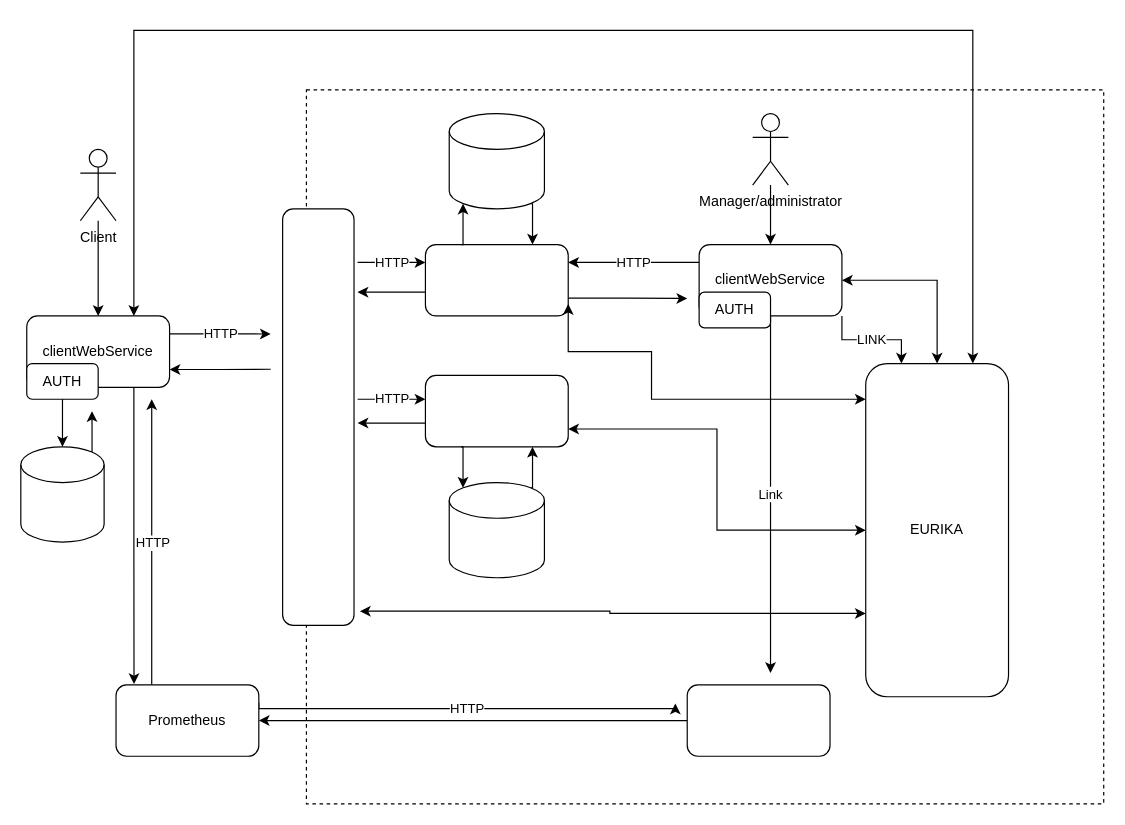
Some shapes in this 1125 by 825 pixel diagram are drawn without their labels. Each missing label, with the centre of its shape:
"API Gateway" belongs at pixel 317 416.
"cardService" belongs at pixel 496 279.
"Grafana" belongs at pixel 758 720.
"productProfileService" belongs at pixel 496 410.
